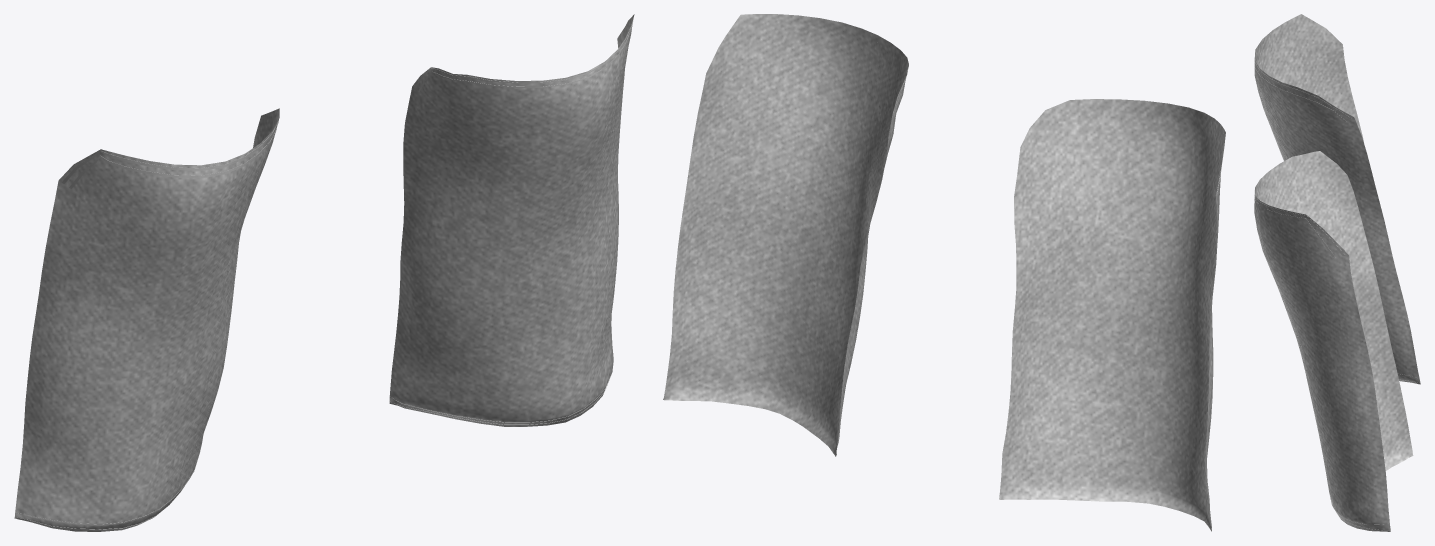
The model's file is Knee.glb.
3 renders of one model, left to right at view 1: azimuth 30°, elevation 25°; view 2: azimuth 150°, elevation 25°; view 3: azimuth 270°, elevation 25°, orthographic. The views are drawn at different scales.
Parts seen in each view (by area): view 1: Knee1, Rope1; view 2: Knee1; view 3: Knee1, Rope1.
Boxes of the visible parts, x1=… form: Knee1: x1=15, y1=14, x2=634, y2=531; Rope1: x1=14, y1=18, x2=633, y2=530; Knee1: x1=663, y1=14, x2=1225, y2=531; Knee1: x1=1254, y1=14, x2=1420, y2=531; Rope1: x1=1254, y1=52, x2=1420, y2=531.
Bounding box in the file's own units: 0.7359 × 0.4797 × 0.2279.
Materials: 2 (2 with a texture image).
